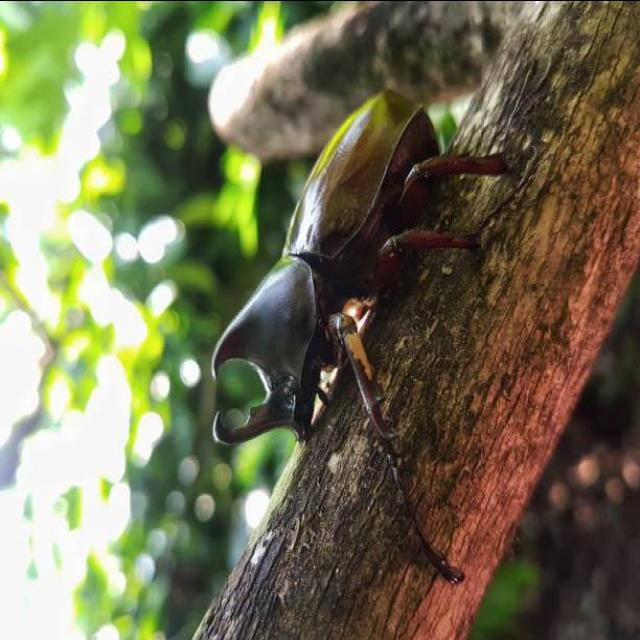Rhino-beetle: (202, 32, 507, 510)
